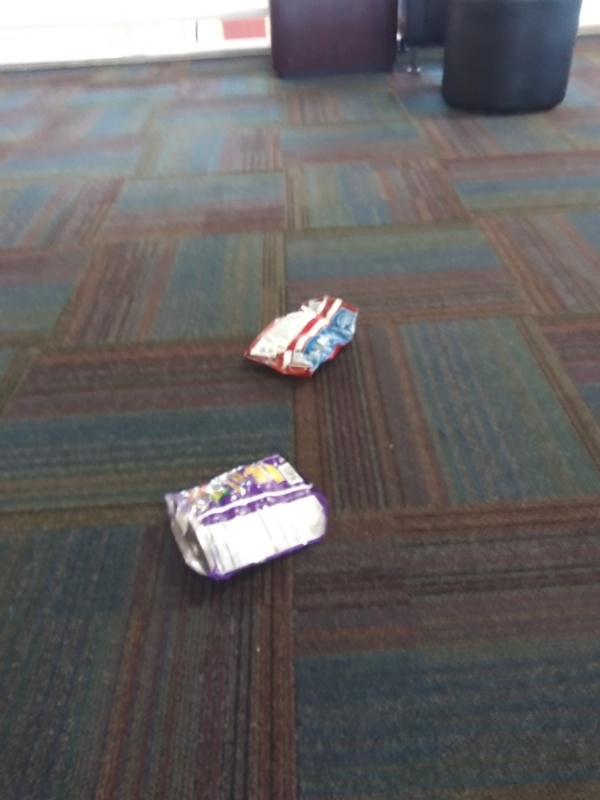bag: (160, 444, 337, 584), (238, 292, 366, 383)
